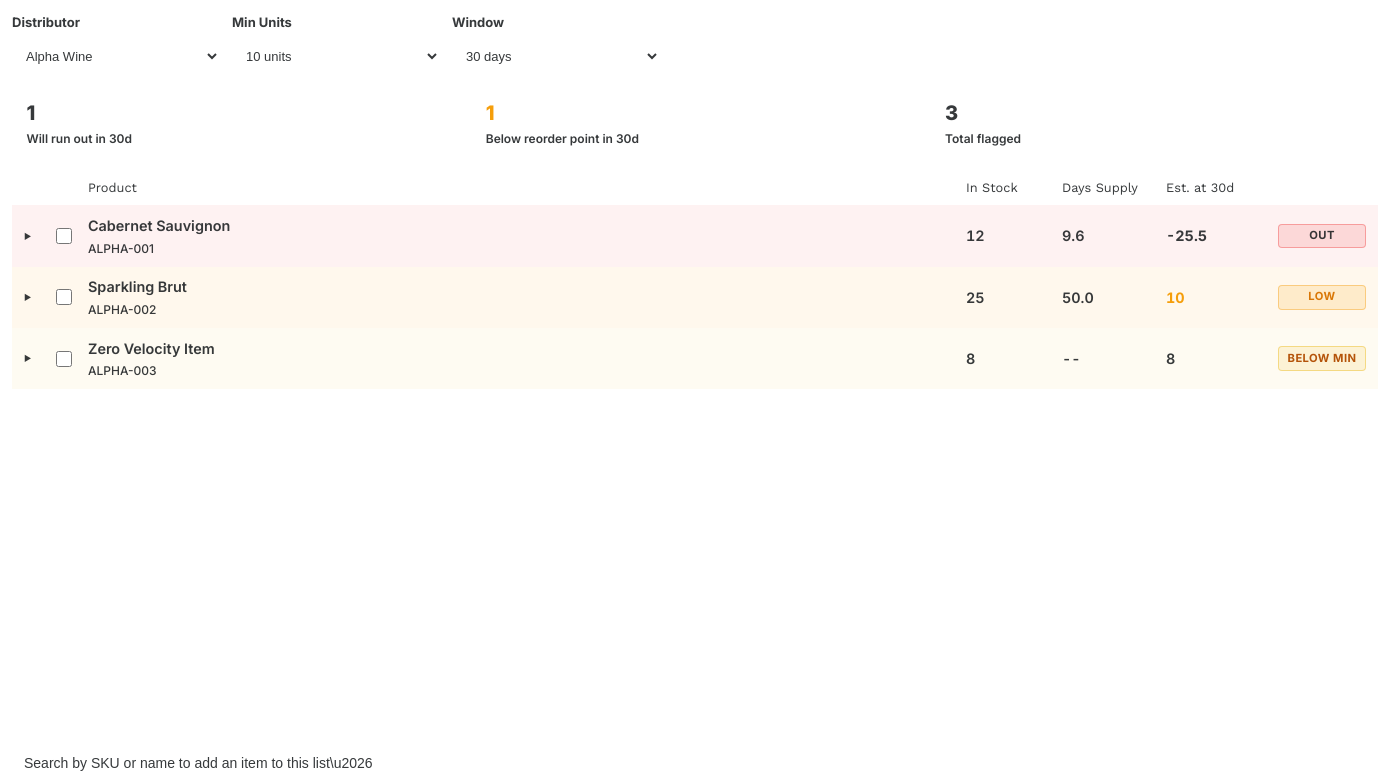
Test: ReorderDashboard › shows zero-velocity fallback in expanded body
# Expand the zero-velocity row
Click the text "Zero Velocity Item": (151, 348) [88, 340, 215, 357]
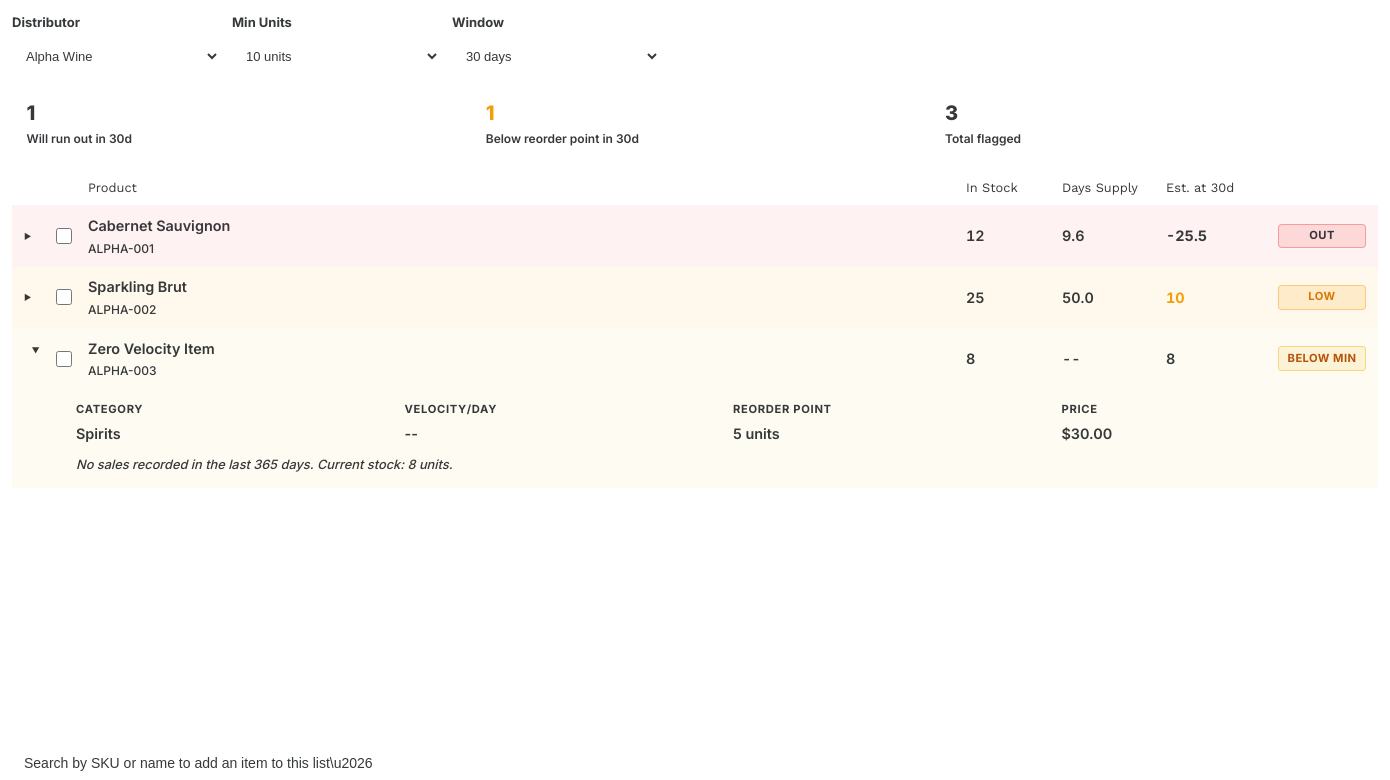
Now the text "No sales recorded in the last 365 days" is shown, box [76, 457, 453, 472]
